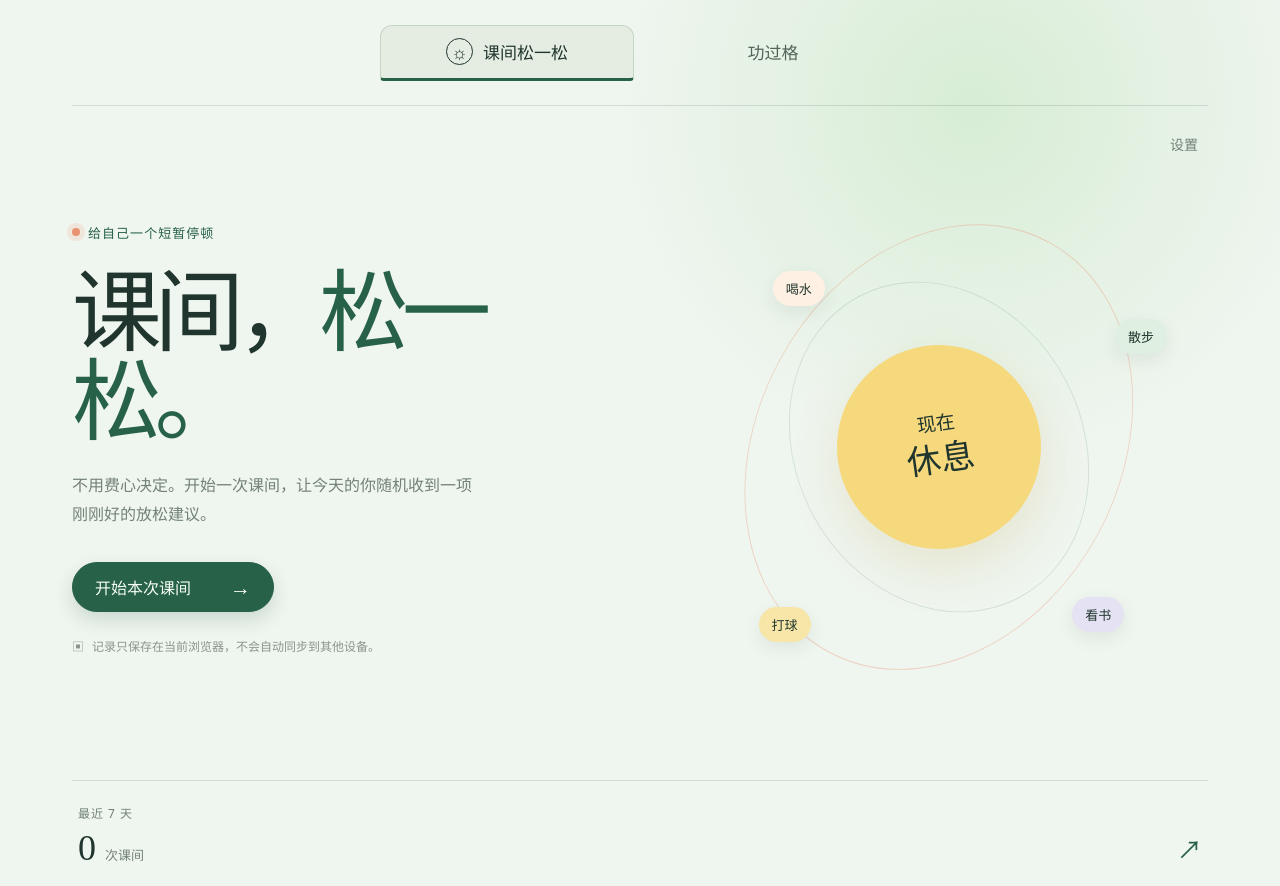
Test: 双模块导航 › keeps an active break intact while 功过格 exposes its accessible in-progress description
Click the button "开始本次课间 →".
click(173, 586)  # box [72,562,274,612]
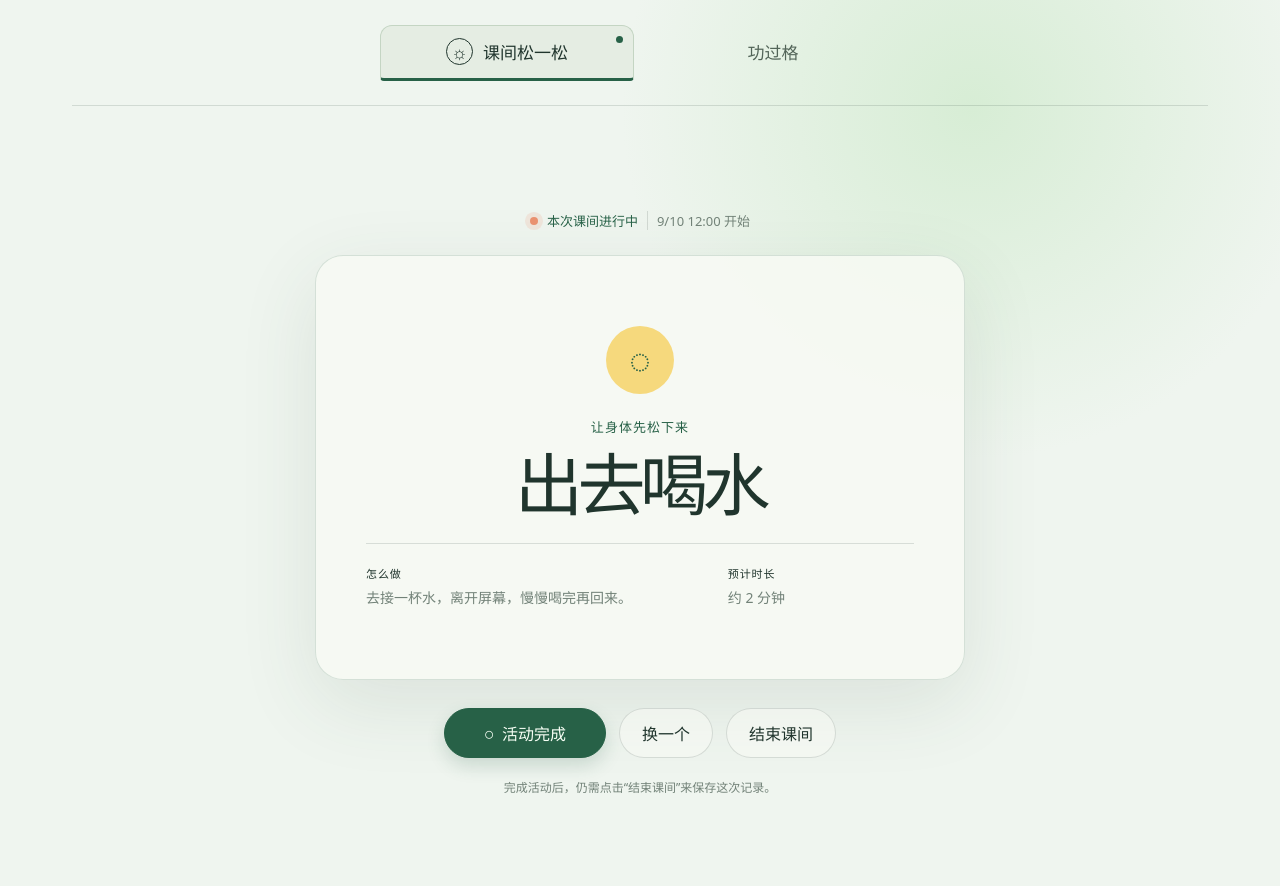
Check: the heading "出去喝水" is shown, box [515,452,765,515]
Check: the button "设置" is gone
Click the button "功过格".
click(773, 52)  # box [646,24,900,80]
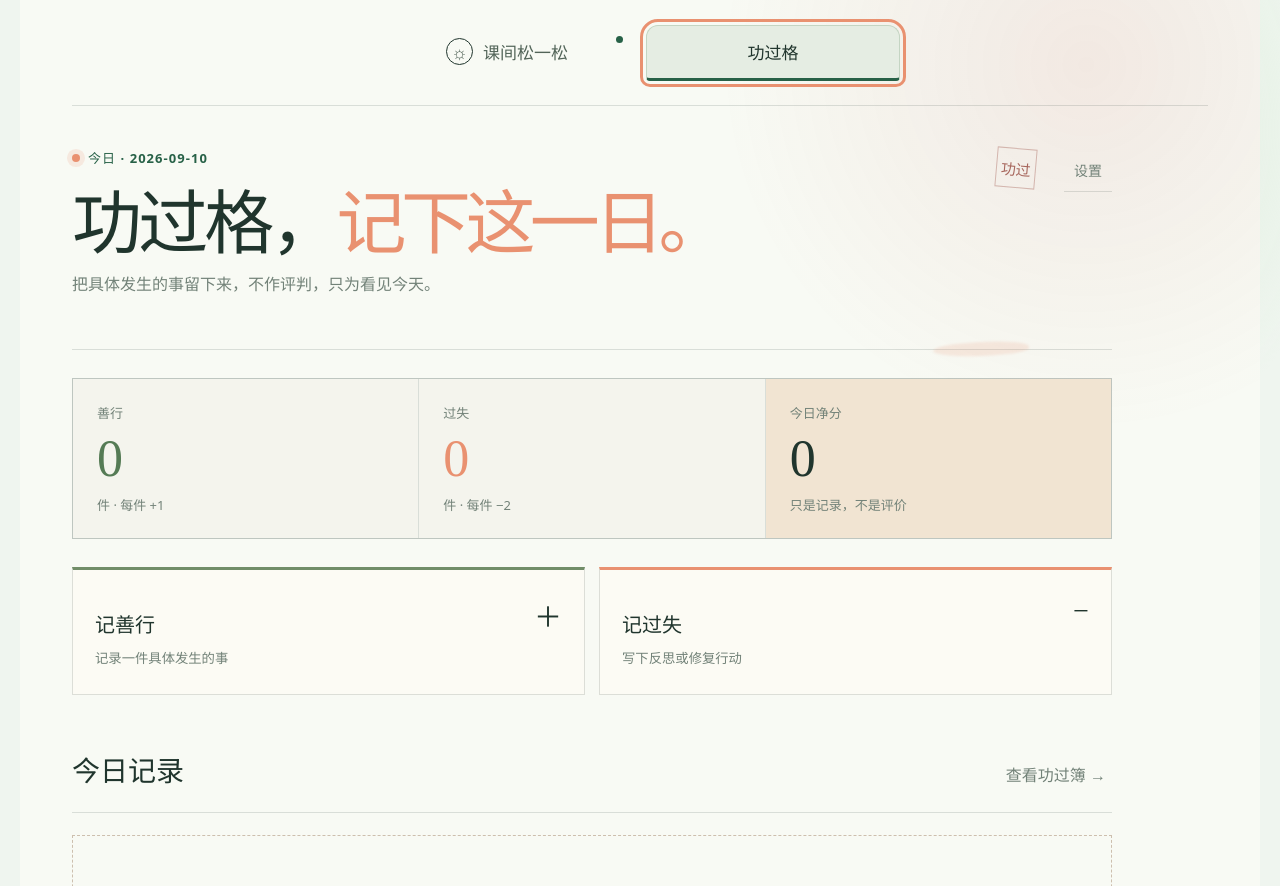
Check: the heading "功过格，记下这一日。" is shown, box [72,192,723,258]
Click the button "☼ 课间松一松".
click(507, 52)  # box [380,24,634,80]
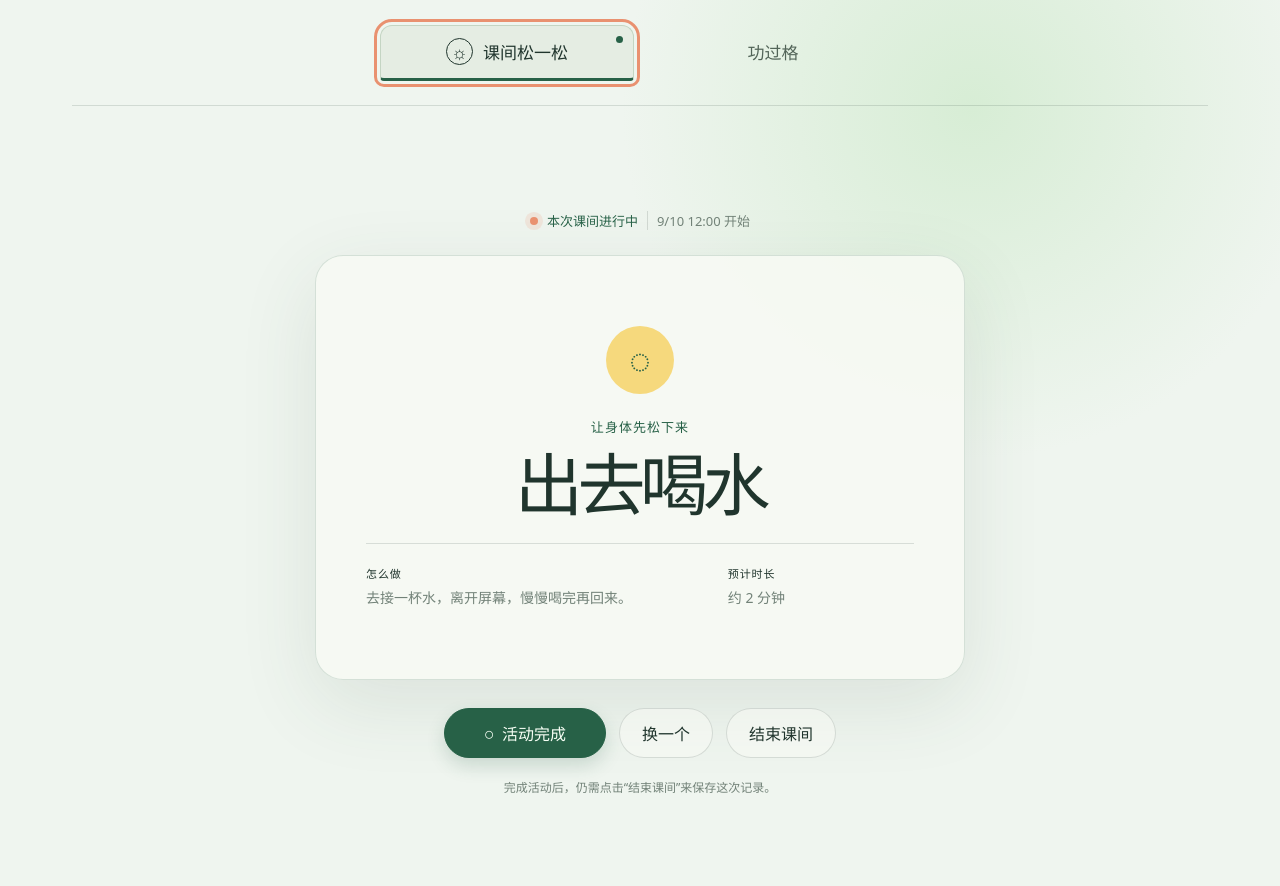
Check: the heading "出去喝水" is shown, box [515,452,765,515]
